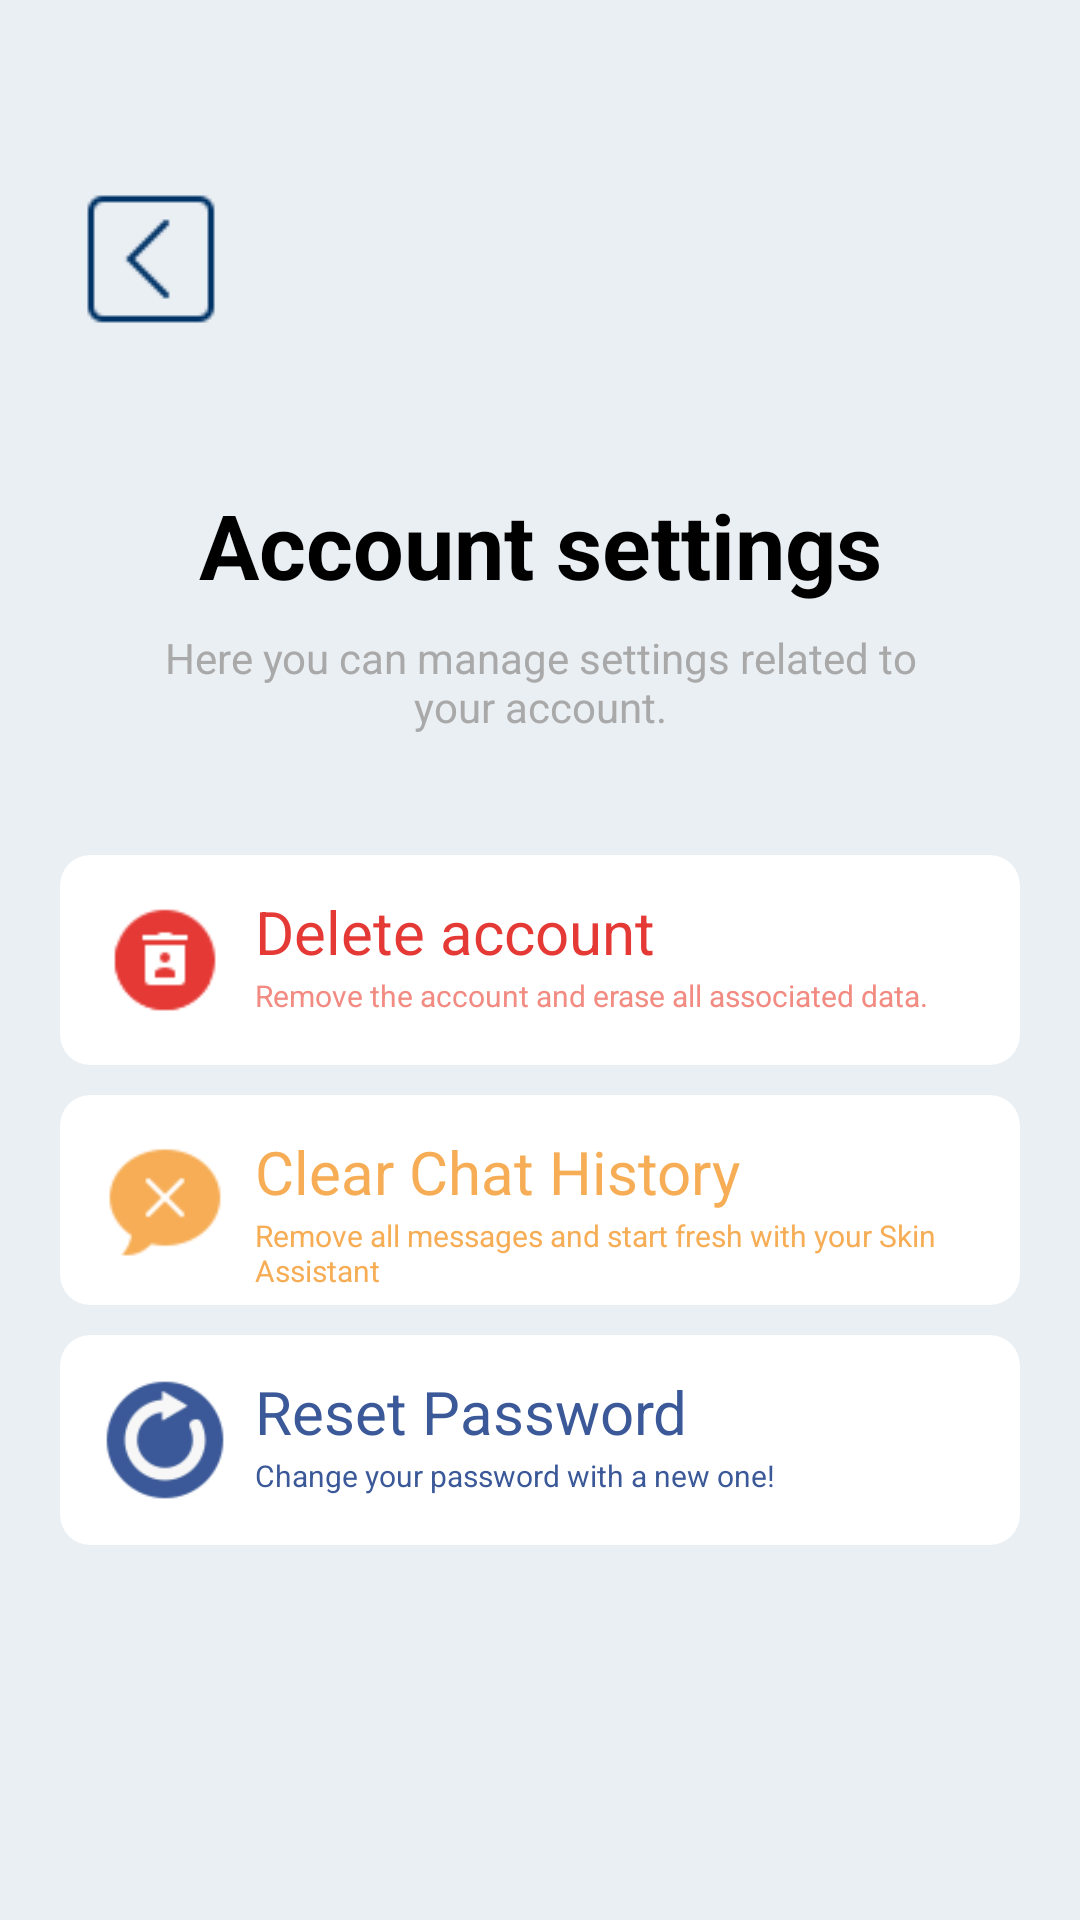

Icon click points for this 1080w x 1920h phone screenshot, format [x,y]:
back button: [151,259]
delete conversation: [165,1202]
